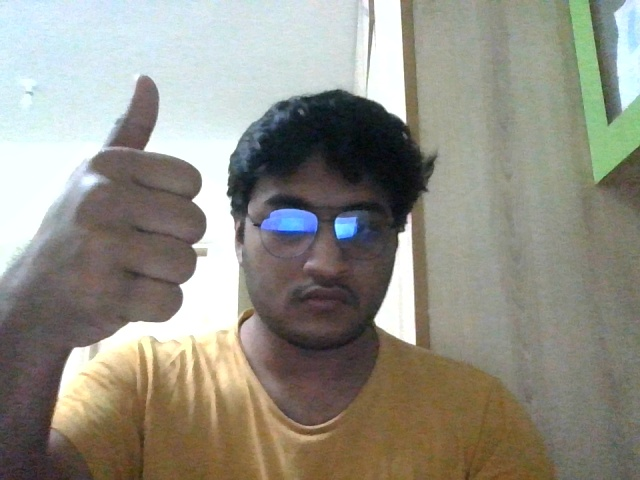thumbsup: (29, 72, 206, 348)
